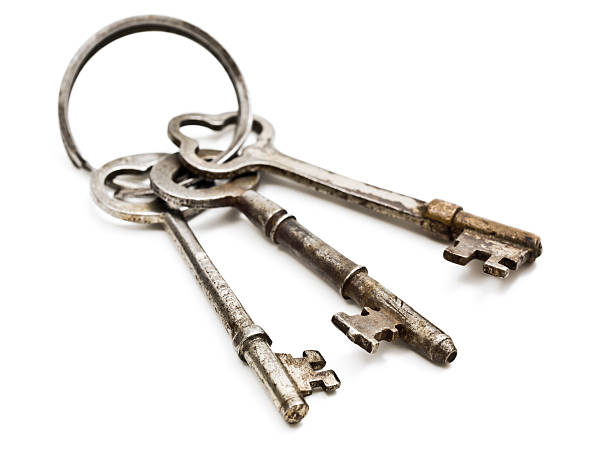key: (70, 86, 556, 429)
